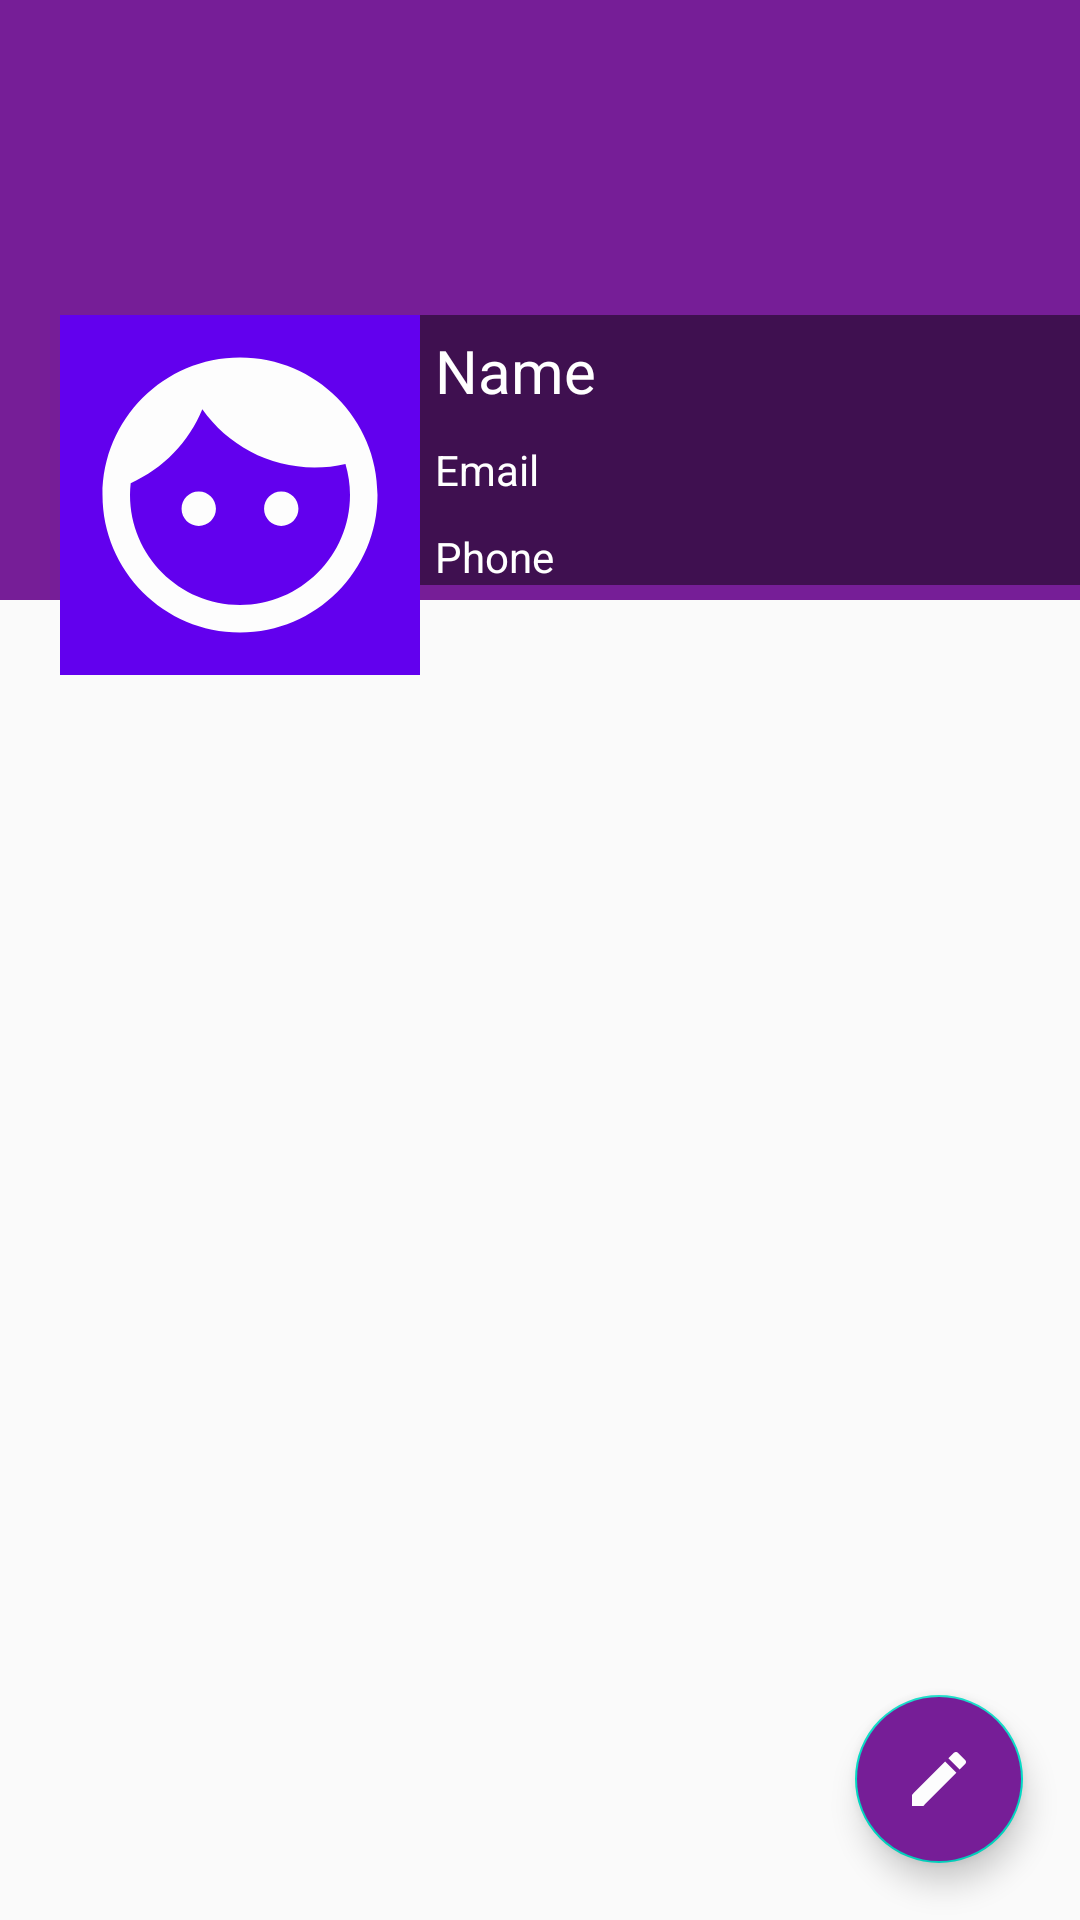

Named icons in this screenshot (1080px x 1920px) and their bounding boxes, detection(x1, y1, x2, y2):
edit fab: detection(855, 1695, 1023, 1863)
